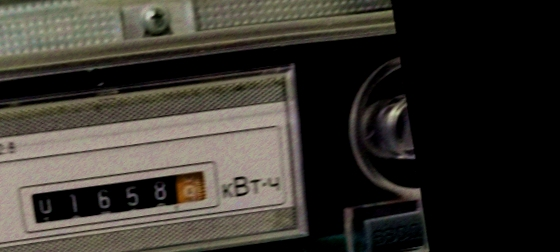0: (34, 192, 54, 215)
1: (63, 189, 81, 215)
5: (121, 182, 141, 208)
6: (92, 185, 114, 211)
8: (149, 177, 169, 202)
9: (179, 181, 198, 204)
screen: (13, 152, 225, 241)
